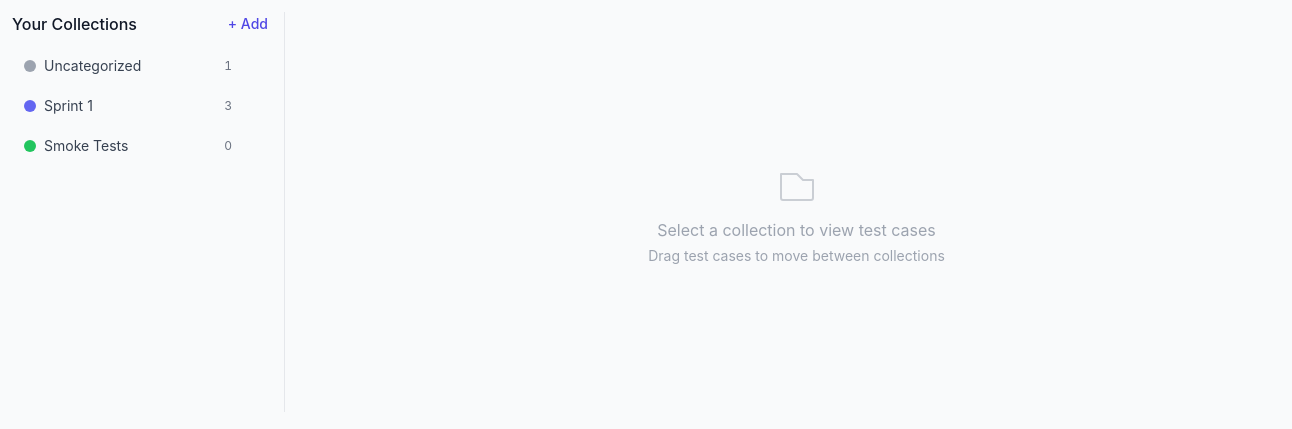
CollectionsView › should show uncategorized test cases
Click the text "Uncategorized" at (93, 66), box [44,57,141,74]
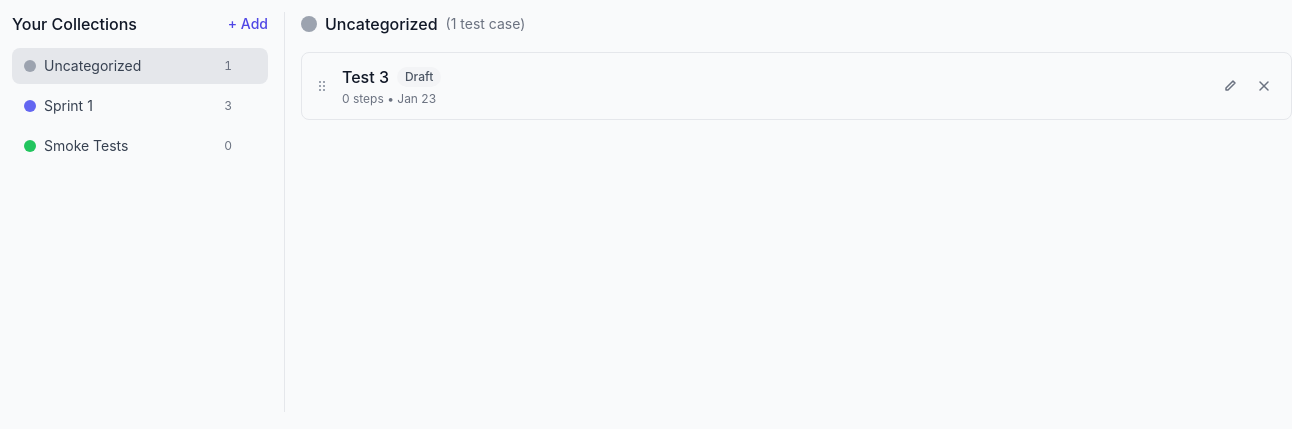
Expected: the text "Test 3" is shown, [342,65,389,89]
